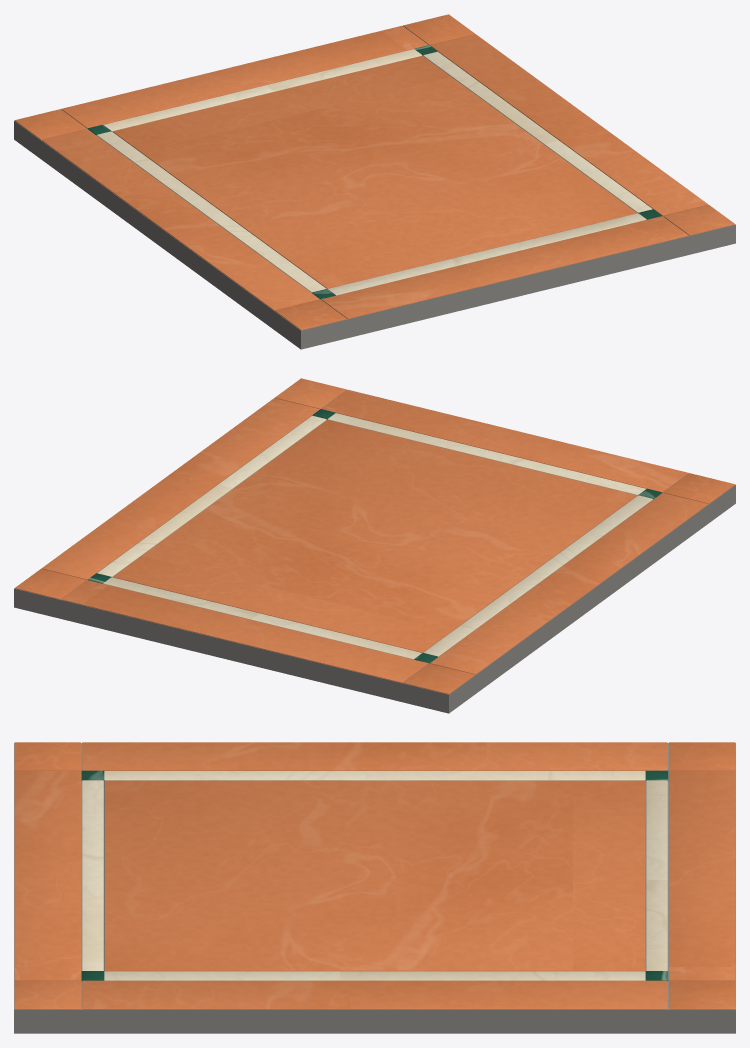
Rendered from floor_KA-DB014.glb.
3 renders of one model, top to bottom at view 1: azimuth 30°, elevation 25°; view 2: azimuth 150°, elevation 25°; view 3: azimuth 270°, elevation 25°, orthographic. The views are drawn at different scales.
Visible parts, largest first — view 1: Floor; view 2: Floor; view 3: Floor.
Part boxes in pixels (x1,y1,x2,y2): Floor: [14, 14, 735, 349]; Floor: [14, 378, 735, 713]; Floor: [14, 742, 735, 1033].
Size of the model in its own units: 1.4 by 0.0604 by 1.6.
Materials: 4 (3 with a texture image).
